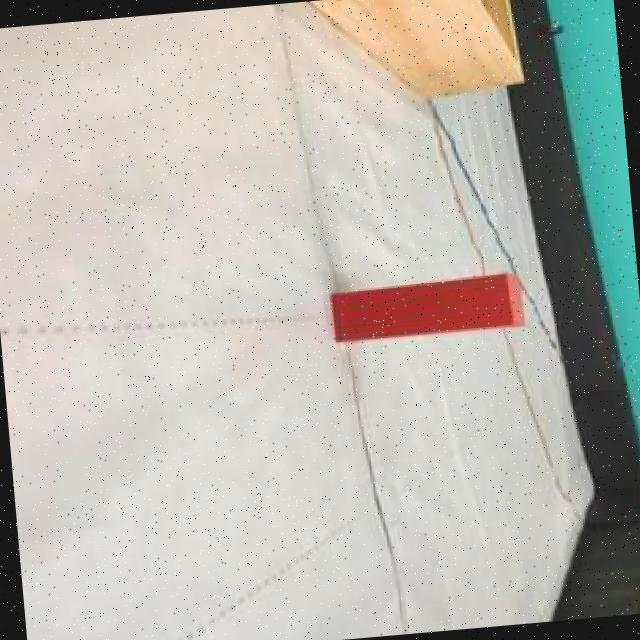redbox: (329, 270, 525, 344)
